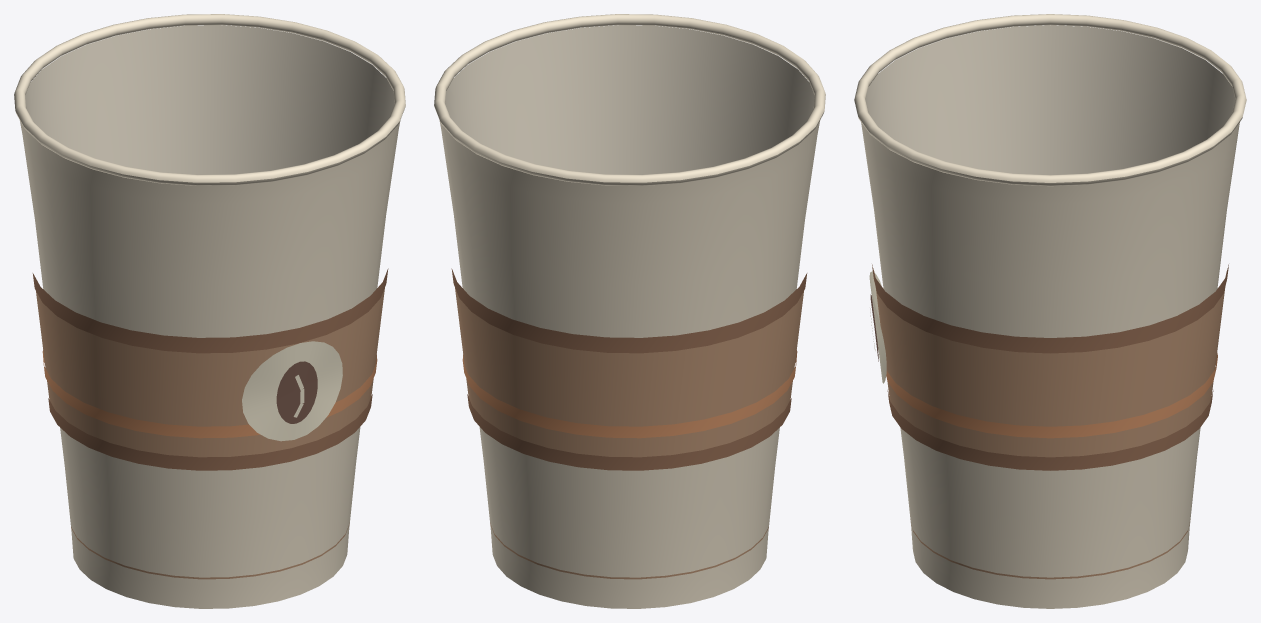
Rendered from coffee_shift_paper_cup_350ml.glb.
3 views of the same model, side by side, from view 1: azimuth 30°, elevation 25°; view 2: azimuth 150°, elevation 25°; view 3: azimuth 270°, elevation 25° (orthographic).
Parts seen in each view (by area): view 1: Cup_Paper_Outer, Cup_Paper_Inner, Kraft_Sleeve, Rolled_Rim, Cream_Coffee_Emblem, Kraft_Upper_Seam, Kraft_Lower_Seam, Vintage_Orange_Band, Coffee_Bean, Cup_Base_Rim; view 2: Cup_Paper_Outer, Cup_Paper_Inner, Kraft_Sleeve, Rolled_Rim, Kraft_Upper_Seam, Kraft_Lower_Seam, Vintage_Orange_Band, Cup_Base_Rim; view 3: Cup_Paper_Outer, Cup_Paper_Inner, Kraft_Sleeve, Rolled_Rim, Kraft_Upper_Seam, Kraft_Lower_Seam, Vintage_Orange_Band, Cream_Coffee_Emblem, Cup_Base_Rim.
Boxes of the visible parts, x1,y1,x2,y2 form: Cup_Paper_Outer: [19, 120, 400, 608]; Cup_Paper_Inner: [25, 25, 394, 174]; Kraft_Sleeve: [36, 288, 384, 457]; Rolled_Rim: [14, 14, 405, 185]; Cream_Coffee_Emblem: [242, 341, 342, 441]; Kraft_Upper_Seam: [32, 268, 388, 353]; Kraft_Lower_Seam: [48, 394, 372, 470]; Vintage_Orange_Band: [42, 350, 377, 438]; Coffee_Bean: [276, 361, 317, 423]; Cup_Base_Rim: [71, 523, 349, 579]; Cup_Paper_Outer: [439, 120, 820, 608]; Cup_Paper_Inner: [445, 25, 814, 174]; Kraft_Sleeve: [455, 288, 803, 457]; Rolled_Rim: [434, 14, 825, 185]; Kraft_Upper_Seam: [451, 268, 807, 353]; Kraft_Lower_Seam: [467, 394, 791, 470]; Vintage_Orange_Band: [462, 350, 797, 438]; Cup_Base_Rim: [490, 523, 768, 579]; Cup_Paper_Outer: [861, 122, 1239, 608]; Cup_Paper_Inner: [865, 25, 1235, 174]; Kraft_Sleeve: [873, 268, 1227, 457]; Rolled_Rim: [854, 14, 1246, 186]; Kraft_Upper_Seam: [872, 264, 1228, 353]; Kraft_Lower_Seam: [887, 390, 1213, 470]; Vintage_Orange_Band: [886, 353, 1217, 438]; Cream_Coffee_Emblem: [869, 271, 886, 383]; Cup_Base_Rim: [910, 519, 1190, 579].
Size of the model in its own units: 0.0876 by 0.1122 by 0.0876.
